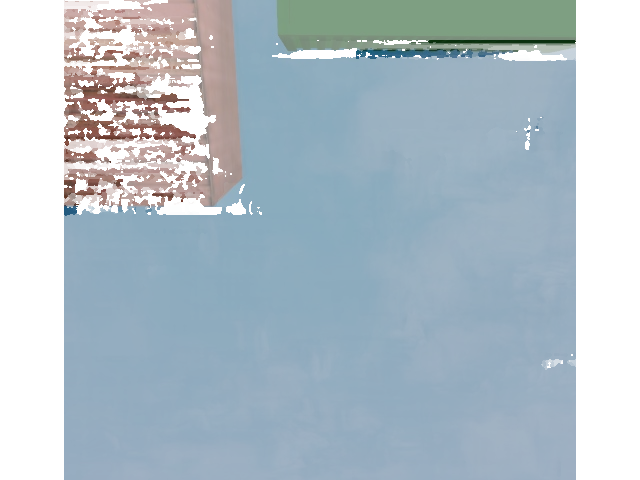container2: (275, 0, 636, 61)
container4: (0, 0, 252, 211)
